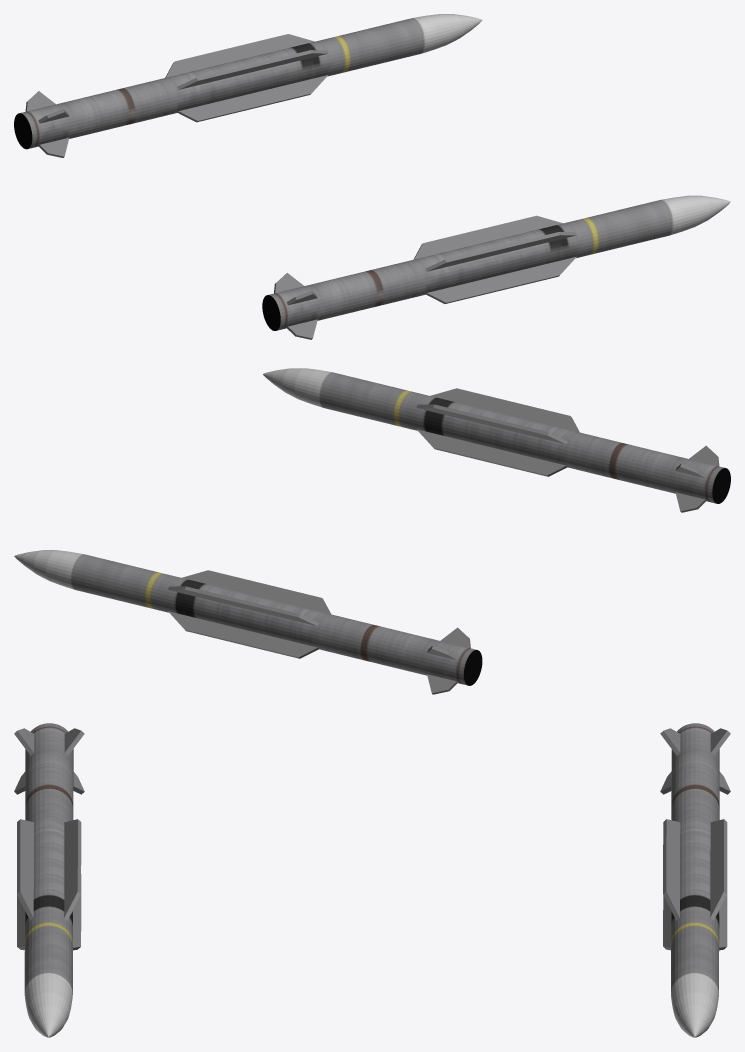
File: fa18faim174b23.glb
3 renders of one model, top to bottom at view 1: azimuth 30°, elevation 25°; view 2: azimuth 150°, elevation 25°; view 3: azimuth 270°, elevation 25°, orthographic. The views are drawn at different scales.
Parts seen in each view (by area): view 1: 円柱.003, 円柱.096; view 2: 円柱.003, 円柱.096; view 3: 円柱.096, 円柱.003.
Boxes of the visible parts, box(x1,y1,x2,y2) form: 円柱.003: box(14, 14, 482, 157); 円柱.096: box(262, 195, 730, 339); 円柱.003: box(14, 550, 482, 694); 円柱.096: box(263, 368, 730, 512); 円柱.096: box(14, 723, 84, 1037); 円柱.003: box(660, 723, 730, 1037).
Size of the model in its own units: 5.79 by 0.5942 by 6.01.
Materials: 2 (1 with a texture image).
